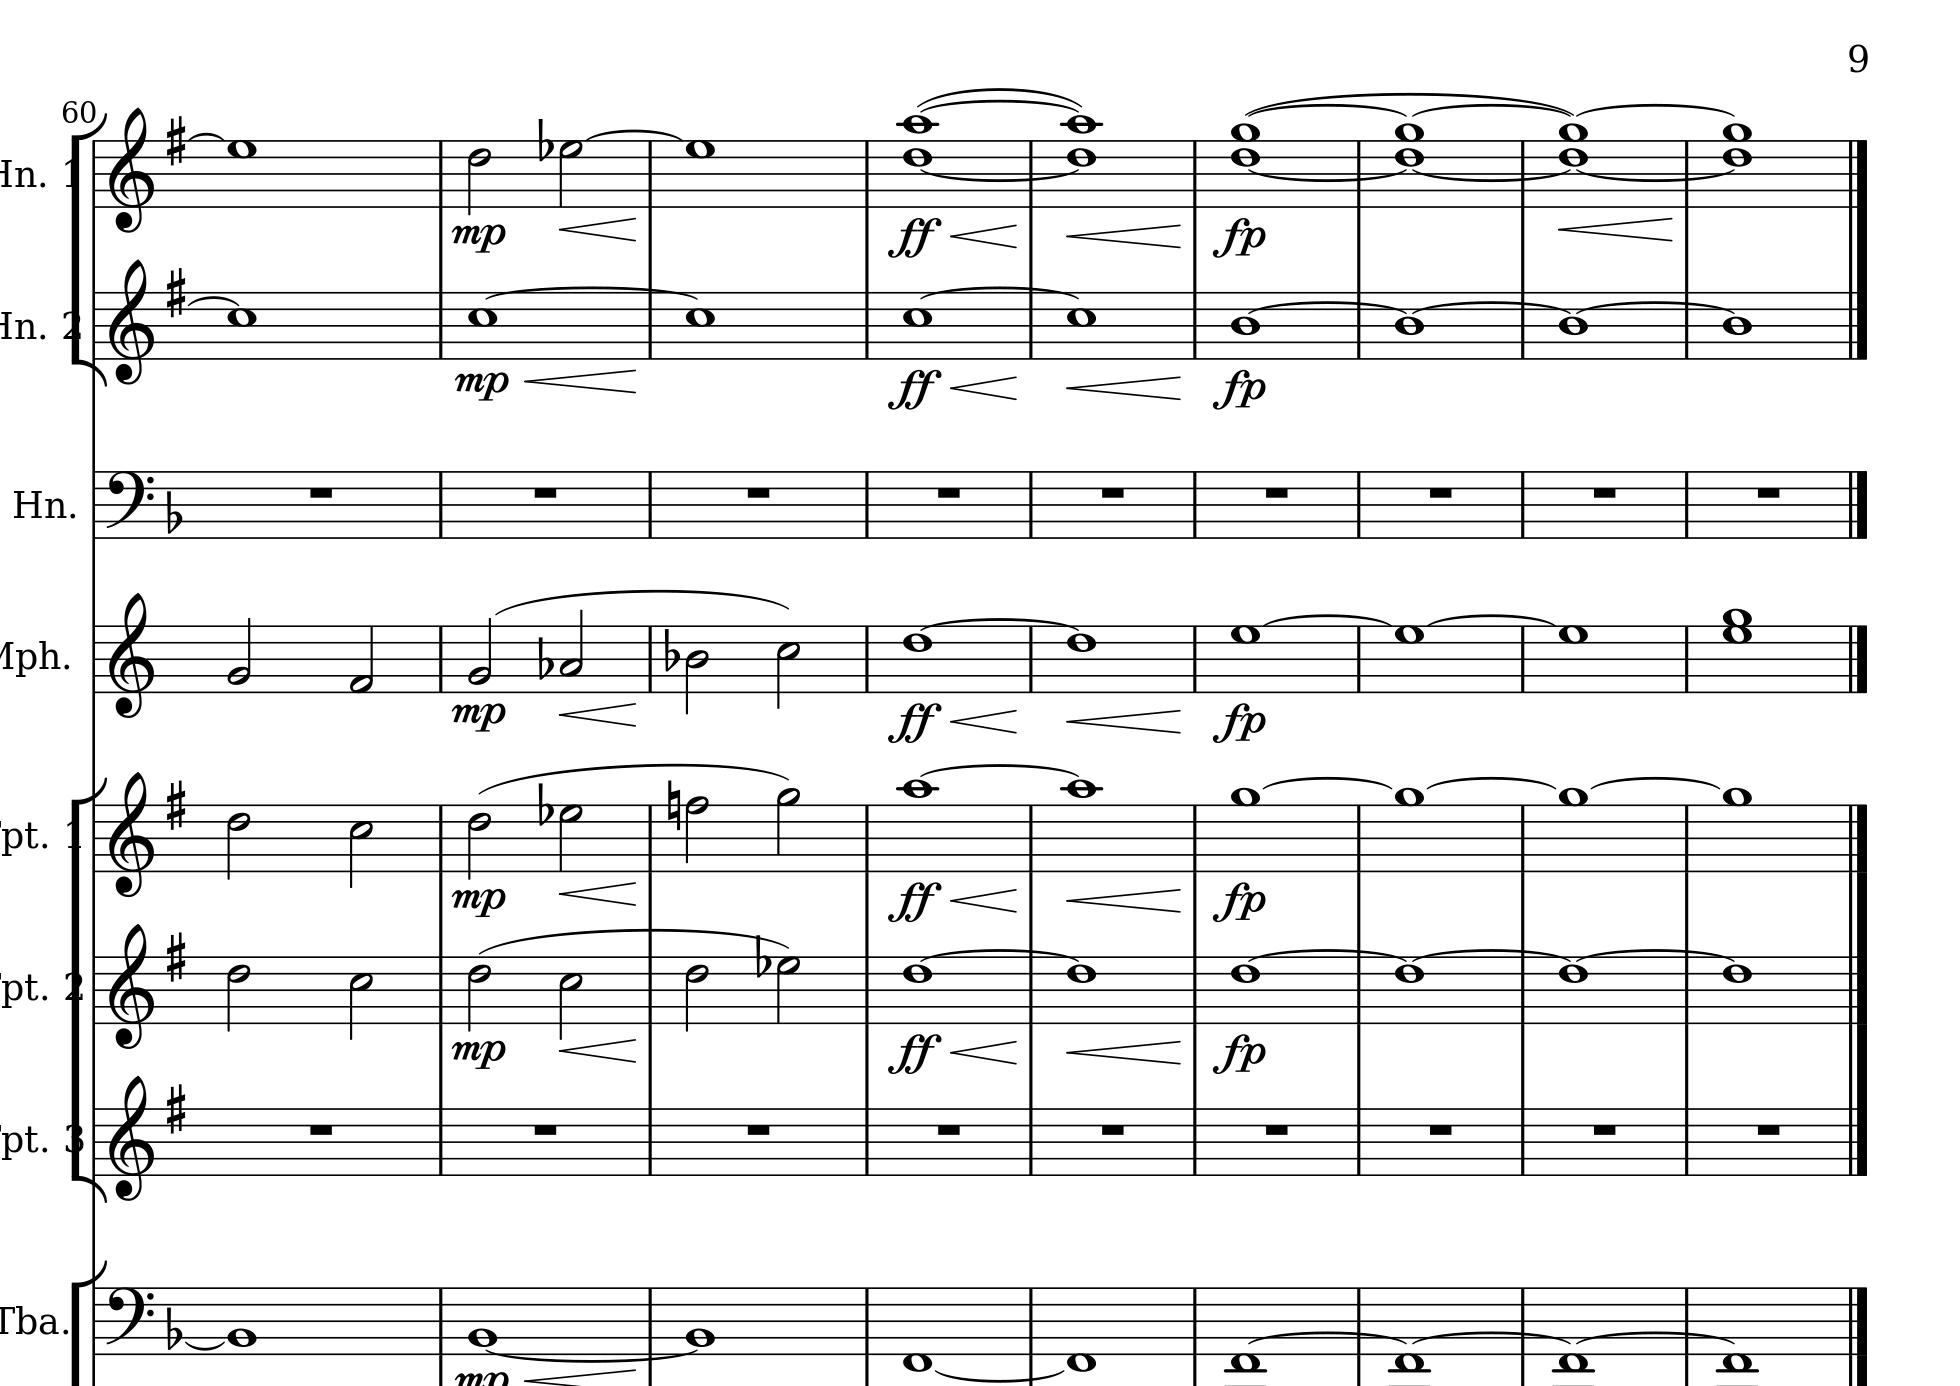0: (79, 96, 96, 124)
1_-1: (900, 1282, 934, 1372), (1065, 1284, 1099, 1374), (1227, 1282, 1261, 1372), (1393, 1282, 1428, 1372), (1558, 1285, 1593, 1375), (1720, 1282, 1755, 1372)
1_10: (1060, 112, 1104, 210), (1062, 778, 1102, 876), (897, 778, 937, 871), (901, 111, 934, 208)
1_2: (682, 1282, 718, 1357), (225, 1282, 259, 1356), (465, 1282, 499, 1356)
1_4: (1393, 289, 1425, 361), (1558, 289, 1590, 361), (1722, 289, 1753, 361), (1230, 288, 1260, 360)
1_5: (226, 289, 259, 361), (684, 289, 715, 361), (1066, 289, 1098, 361), (901, 289, 933, 360), (466, 289, 498, 358)
1_6: (901, 622, 934, 694), (1065, 624, 1098, 694), (1065, 955, 1098, 1026), (1393, 954, 1426, 1024), (1557, 954, 1590, 1024), (1722, 954, 1755, 1024), (1230, 954, 1261, 1024), (901, 955, 933, 1024)
1_6_9: (1393, 121, 1429, 210), (1722, 121, 1758, 210), (1557, 120, 1591, 210), (1230, 121, 1263, 208)
1_7: (225, 138, 258, 210), (1395, 624, 1428, 696), (1230, 624, 1263, 694), (1557, 624, 1590, 694), (684, 139, 715, 211)
1_9: (1392, 786, 1428, 874), (1557, 787, 1591, 874), (1722, 786, 1755, 874), (1230, 786, 1263, 873)
2_1: (348, 622, 376, 694)
2_2: (225, 613, 253, 694), (466, 616, 493, 691)
2_3: (558, 607, 586, 694)
2_4: (682, 624, 711, 717)
2_5: (774, 622, 802, 711), (346, 954, 375, 1041), (556, 955, 585, 1041), (346, 802, 373, 889)
2_6: (682, 954, 711, 1033), (225, 952, 252, 1033), (225, 802, 252, 882), (466, 136, 493, 214), (466, 802, 493, 880), (466, 955, 493, 1030)
2_7: (556, 138, 586, 210), (774, 954, 802, 1027), (556, 802, 585, 874)
2_8: (684, 793, 711, 877)
2_9: (772, 786, 802, 874)
6: (61, 96, 79, 126)
9: (1848, 40, 1870, 73)
Bracke: (67, 121, 108, 379)
Crescendo_hairpin: (1065, 886, 1183, 913), (1063, 1039, 1182, 1066), (1554, 217, 1677, 243), (1063, 375, 1185, 400), (1065, 223, 1183, 249), (523, 369, 640, 394), (1065, 709, 1186, 733), (559, 1036, 637, 1065), (526, 1366, 637, 1386), (558, 700, 637, 727), (559, 880, 637, 906), (949, 373, 1020, 400), (949, 1039, 1020, 1066), (559, 217, 637, 241), (951, 708, 1021, 733), (949, 223, 1018, 249), (949, 886, 1017, 912)
Fclef: (103, 466, 154, 537), (103, 1284, 154, 1354)
Final_barline: (1843, 1285, 1870, 1354), (1843, 138, 1870, 205), (1843, 802, 1870, 870), (1842, 955, 1869, 1021), (1845, 469, 1870, 538), (1843, 291, 1869, 358), (1845, 624, 1870, 691), (1843, 1107, 1869, 1174)
Flat: (163, 486, 186, 534), (163, 1303, 184, 1350), (535, 115, 553, 163), (535, 633, 553, 681), (661, 625, 679, 673), (535, 780, 553, 828), (753, 933, 769, 979)
Gclef: (105, 256, 157, 387), (106, 589, 156, 718), (106, 106, 156, 234), (106, 771, 156, 898), (106, 922, 156, 1050), (106, 1074, 156, 1201)
Hn: (10, 484, 69, 523), (1, 154, 37, 190)
Natural: (664, 777, 682, 835)
Rests1: (304, 481, 337, 502), (1752, 481, 1785, 502), (1425, 483, 1458, 502), (1588, 483, 1621, 502), (933, 483, 964, 502), (1098, 483, 1129, 502), (1261, 483, 1293, 502), (1590, 1119, 1621, 1138), (1753, 1119, 1785, 1138), (304, 1120, 337, 1138), (529, 484, 561, 502), (742, 483, 774, 501), (529, 1120, 561, 1138), (742, 1120, 774, 1138), (933, 1120, 964, 1138), (1425, 1120, 1456, 1138), (1098, 1120, 1128, 1138), (1263, 1120, 1293, 1138)
Sharp: (163, 265, 189, 319), (163, 930, 187, 985), (163, 114, 187, 168), (163, 778, 187, 832), (163, 1081, 187, 1135)
Single_barline: (1021, 1287, 1041, 1365), (640, 955, 661, 1021), (1350, 289, 1369, 360), (1513, 1285, 1533, 1354), (1677, 1285, 1696, 1354), (432, 139, 451, 207), (432, 804, 451, 871), (858, 804, 877, 871), (432, 955, 451, 1023), (858, 955, 877, 1023), (1677, 625, 1696, 690), (1678, 289, 1696, 358), (1350, 1285, 1368, 1354), (432, 291, 450, 358), (1515, 291, 1533, 358), (1350, 804, 1368, 871), (1350, 955, 1368, 1023), (1515, 955, 1533, 1023), (1350, 1107, 1368, 1174), (432, 1287, 450, 1354), (640, 1287, 658, 1354), (858, 1287, 876, 1354), (1023, 139, 1041, 205), (1350, 139, 1368, 205), (1515, 139, 1533, 205), (1678, 139, 1696, 205), (1350, 625, 1368, 691), (640, 625, 658, 691), (1186, 955, 1204, 1021), (1678, 957, 1696, 1023), (87, 1288, 105, 1354), (640, 294, 658, 358), (1023, 294, 1041, 358), (1023, 805, 1041, 870), (87, 802, 103, 871), (1023, 958, 1041, 1021), (1678, 469, 1695, 537), (87, 471, 103, 538), (1515, 804, 1531, 871), (432, 1107, 448, 1174), (1515, 1107, 1531, 1174), (1678, 1107, 1695, 1174), (858, 139, 874, 205), (1186, 139, 1203, 205), (1186, 625, 1203, 691), (1023, 625, 1039, 691), (642, 804, 658, 870), (1678, 804, 1695, 870), (87, 957, 103, 1023), (642, 1108, 658, 1174), (858, 1108, 874, 1174), (1023, 1108, 1039, 1174), (1186, 1108, 1203, 1174), (1515, 625, 1531, 690), (642, 142, 658, 205), (1186, 805, 1203, 868), (1023, 469, 1038, 538), (1188, 469, 1203, 538), (1351, 469, 1366, 538), (859, 291, 874, 358), (1188, 291, 1203, 358), (87, 292, 102, 360), (1515, 469, 1530, 537), (88, 1108, 103, 1176), (1188, 1287, 1203, 1354), (87, 141, 102, 207), (433, 471, 448, 537), (643, 471, 658, 537), (859, 471, 874, 537), (87, 625, 102, 691), (433, 625, 448, 691), (859, 625, 874, 691)
Slur: (477, 765, 793, 796), (478, 927, 786, 955), (493, 589, 798, 618), (481, 283, 702, 304), (1564, 946, 1737, 964), (1243, 946, 1407, 964), (919, 283, 1077, 301), (919, 90, 1089, 106), (1575, 1330, 1740, 1347), (1413, 946, 1573, 963), (1411, 1330, 1576, 1345), (919, 615, 1083, 630), (922, 763, 1083, 778), (1251, 1330, 1407, 1345), (916, 169, 1080, 183), (1575, 169, 1737, 183), (1410, 105, 1569, 118), (1593, 774, 1719, 790), (1566, 105, 1737, 117), (1425, 775, 1560, 790), (919, 949, 1086, 961), (919, 103, 1083, 115), (1410, 169, 1572, 181), (1251, 169, 1413, 181), (1264, 775, 1393, 790), (1263, 612, 1389, 625), (1428, 612, 1552, 625), (937, 1368, 1060, 1381), (1251, 106, 1407, 117), (586, 127, 681, 141), (186, 294, 238, 309), (181, 1339, 226, 1351), (184, 130, 225, 142)
ff: (886, 366, 943, 412), (886, 214, 942, 259), (886, 700, 940, 744), (886, 880, 940, 924), (888, 1032, 942, 1075)
fp: (1210, 367, 1267, 412), (1215, 217, 1272, 262), (1210, 880, 1267, 924), (1212, 1033, 1266, 1077)
mp: (451, 367, 511, 403), (448, 885, 508, 921), (448, 1036, 507, 1072), (448, 220, 505, 256), (448, 699, 507, 733)
pp: (1212, 703, 1267, 745)
